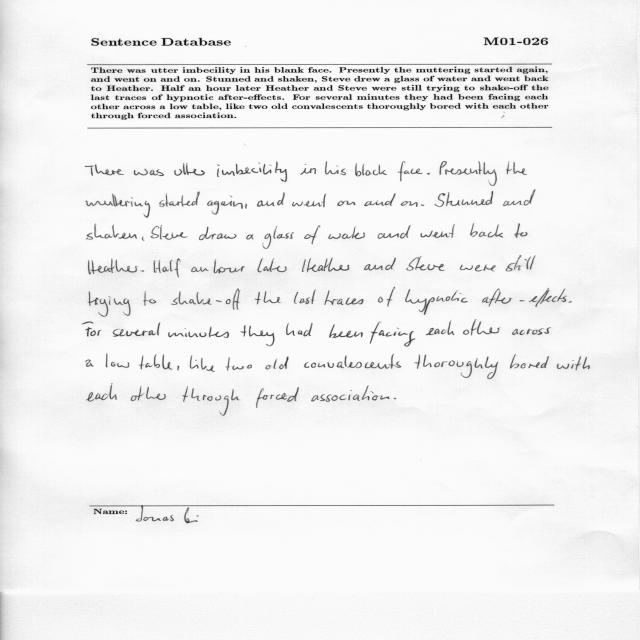word: (414, 354, 498, 379), (182, 386, 239, 416), (482, 288, 567, 307), (406, 289, 468, 315), (86, 194, 150, 218), (172, 288, 241, 310), (304, 354, 401, 369), (439, 161, 497, 186), (217, 162, 287, 182), (311, 385, 390, 402), (370, 322, 415, 347), (88, 291, 131, 317), (435, 191, 494, 207), (256, 387, 299, 408), (86, 224, 137, 240), (88, 259, 138, 275), (262, 226, 294, 249), (241, 325, 275, 346), (113, 322, 160, 337), (207, 196, 243, 215), (302, 258, 350, 272), (168, 327, 229, 338), (159, 192, 200, 207), (406, 256, 445, 271), (510, 354, 549, 369), (151, 225, 188, 240), (463, 320, 500, 335), (325, 291, 364, 305), (139, 354, 173, 370), (87, 384, 117, 402), (503, 190, 536, 206), (131, 386, 166, 401), (154, 259, 181, 278), (398, 162, 423, 182), (557, 356, 590, 371), (420, 224, 455, 238), (199, 227, 236, 240), (506, 256, 536, 272), (292, 194, 326, 208), (329, 324, 363, 338), (378, 225, 411, 239), (470, 224, 503, 238), (257, 258, 287, 273), (328, 227, 365, 239), (214, 260, 245, 274), (85, 165, 124, 176), (190, 355, 215, 372), (257, 192, 285, 207), (355, 164, 387, 177), (364, 194, 396, 207), (364, 258, 396, 271), (174, 163, 205, 176), (426, 321, 454, 335), (225, 357, 252, 371), (254, 291, 281, 304), (304, 225, 321, 245), (378, 287, 395, 307), (286, 323, 312, 336), (106, 354, 130, 368), (294, 290, 316, 305), (512, 327, 551, 335), (266, 357, 289, 370), (325, 162, 346, 176), (506, 161, 527, 175), (82, 322, 101, 337), (460, 265, 496, 272), (134, 169, 164, 176), (143, 291, 156, 306), (515, 224, 528, 238), (300, 164, 316, 174), (401, 201, 418, 207), (337, 201, 356, 206), (191, 267, 209, 272), (86, 360, 94, 367), (246, 235, 254, 240), (142, 237, 145, 241), (245, 204, 247, 209), (426, 173, 430, 175), (568, 301, 572, 303), (178, 366, 180, 370), (141, 270, 144, 272), (421, 205, 424, 206), (394, 398, 396, 399)
